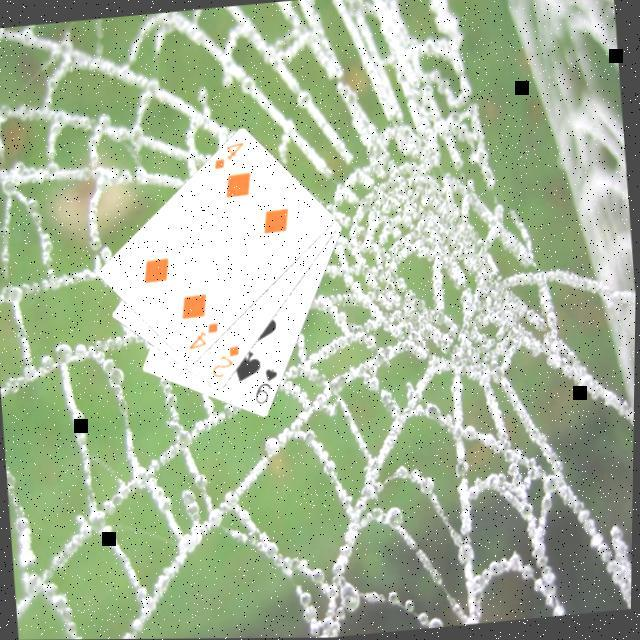2D: (207, 342, 246, 383)
4D: (209, 139, 250, 174), (184, 320, 225, 354)
9S: (252, 365, 286, 408)
